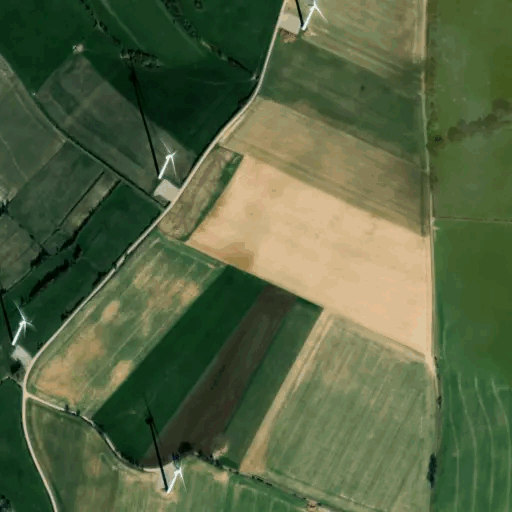wt: (125, 60, 184, 188), (142, 398, 188, 500), (1, 284, 38, 353), (286, 1, 333, 35)
